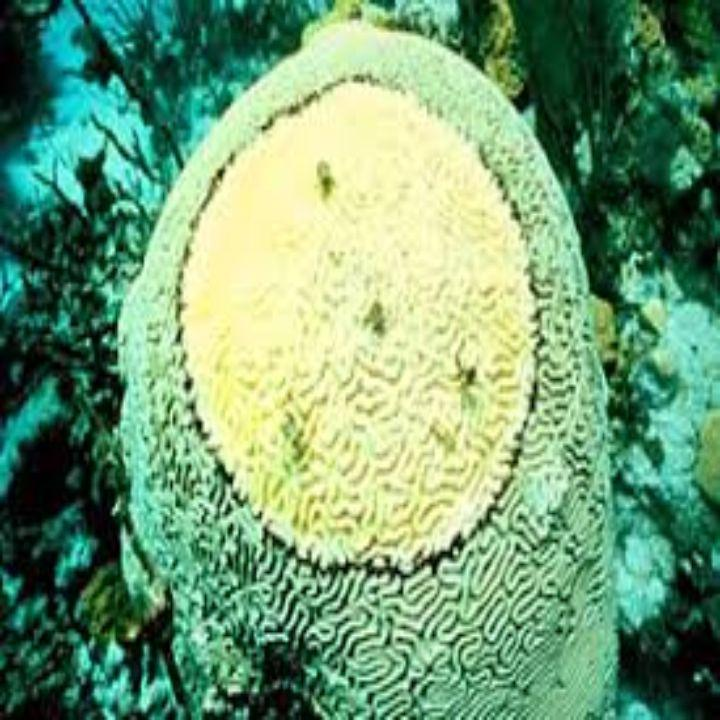Band disease: (164, 71, 548, 593)
